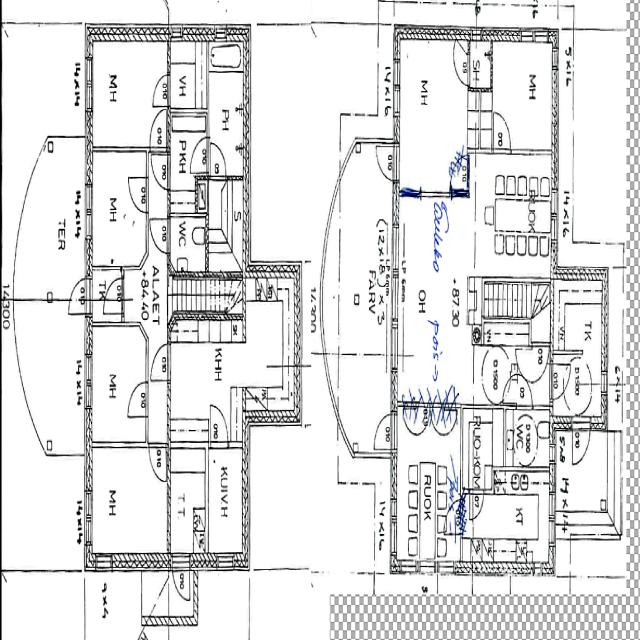door: (126, 378, 150, 420), (208, 403, 230, 447), (492, 108, 512, 153), (149, 341, 170, 383), (149, 214, 170, 256), (173, 554, 191, 602), (375, 140, 396, 181), (571, 424, 591, 467), (550, 360, 572, 399), (148, 108, 168, 150), (148, 442, 168, 483), (127, 174, 147, 214), (372, 411, 392, 451), (150, 151, 170, 189), (514, 374, 534, 409), (151, 72, 170, 108), (453, 48, 470, 87), (68, 277, 86, 313), (210, 141, 227, 176), (470, 488, 485, 522), (577, 358, 594, 387)
window: (83, 341, 94, 416), (416, 183, 451, 206), (318, 266, 327, 339), (215, 551, 237, 575), (85, 56, 94, 114), (436, 561, 456, 582), (418, 558, 437, 578), (400, 562, 420, 580)
zone: (336, 134, 394, 448), (568, 28, 636, 254), (396, 38, 468, 195), (86, 442, 168, 565), (472, 152, 553, 270), (88, 41, 167, 151), (492, 37, 557, 155), (469, 479, 555, 568), (88, 321, 148, 446), (89, 149, 147, 271), (242, 297, 298, 419), (340, 356, 390, 457), (554, 287, 606, 383), (168, 441, 207, 559), (207, 445, 245, 565), (208, 65, 246, 180), (482, 329, 538, 404), (464, 405, 510, 493), (206, 177, 244, 271), (169, 123, 208, 203), (511, 407, 552, 476), (168, 42, 205, 117), (168, 213, 208, 275), (469, 34, 492, 91)
